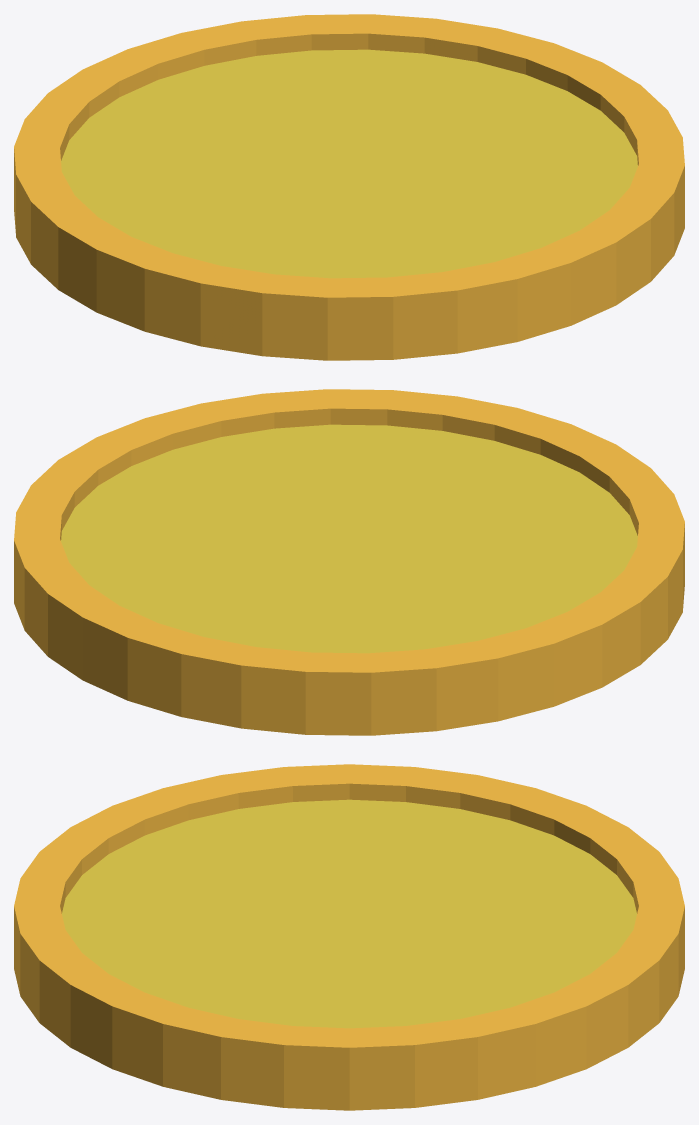
Rendered from Koin.dae.
3 renders of one model, top to bottom at view 1: azimuth 30°, elevation 25°; view 2: azimuth 150°, elevation 25°; view 3: azimuth 270°, elevation 25°, orthographic.
Visible parts, largest first — view 1: Cylinder.001; view 2: Cylinder.001; view 3: Cylinder.001.
Part boxes in pixels (x1=…): Cylinder.001: x1=14, y1=14, x2=684, y2=360; Cylinder.001: x1=14, y1=389, x2=684, y2=735; Cylinder.001: x1=14, y1=764, x2=684, y2=1110.
Bounding box in the file's own units: 1.36 × 1.36 × 0.1409.
